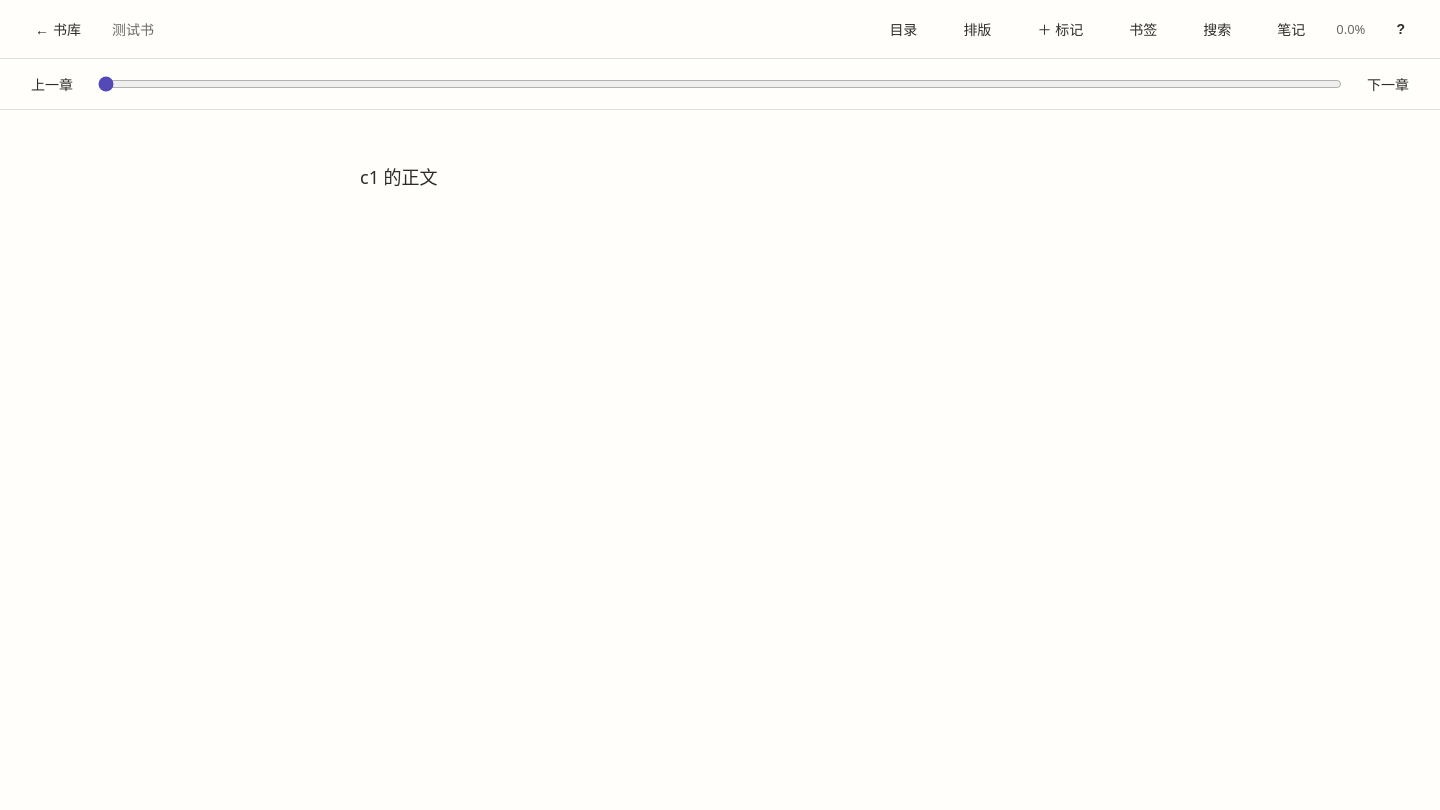
阅读器 › 一条笔记都没有时，「笔记」入口仍可点开并给出操作引导
Expected: the text "c1 的正文" is shown, [360, 165, 438, 189]
Click the button "笔记": click(1291, 29) [1262, 10, 1320, 48]
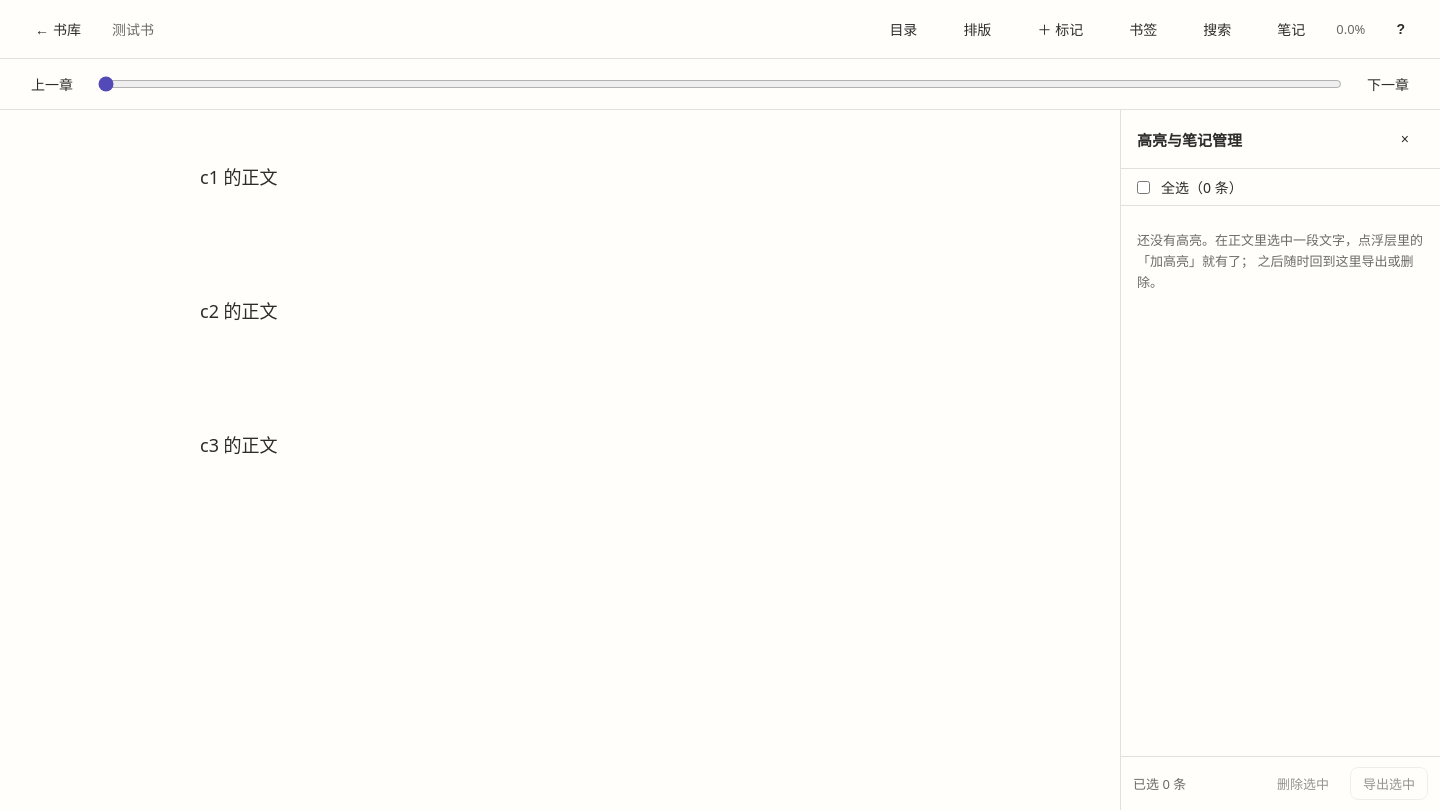
Now the text "高亮与笔记管理" is shown, box [1137, 128, 1242, 150]
Now the text "还没有高亮。在正文里选中一段文字，点浮层里的「加高亮」就有了； 之后随时回到这里导出或删除。" is shown, box [1121, 214, 1439, 308]
